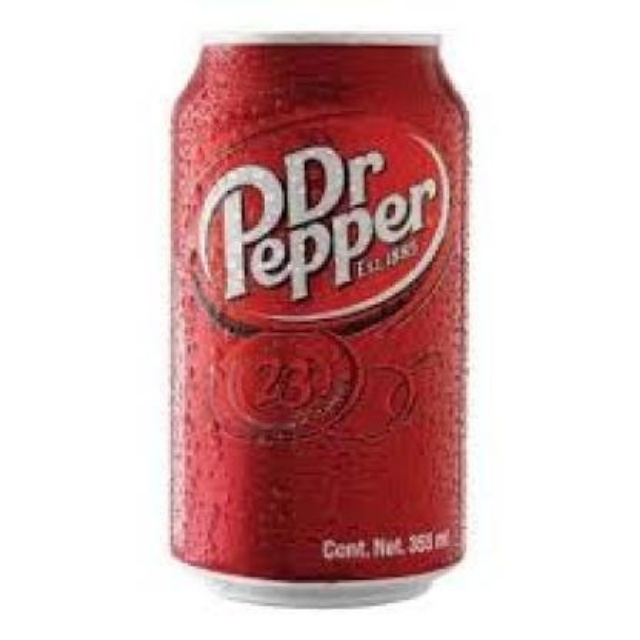trash: (172, 35, 466, 578)
